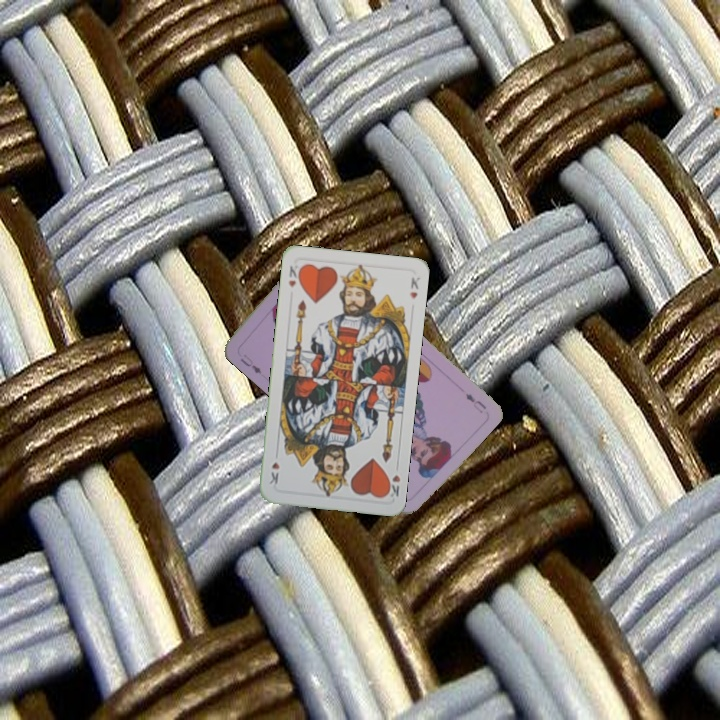EU: (461, 389, 489, 416), (236, 352, 264, 377)
HK: (382, 460, 403, 499), (284, 261, 304, 290)
